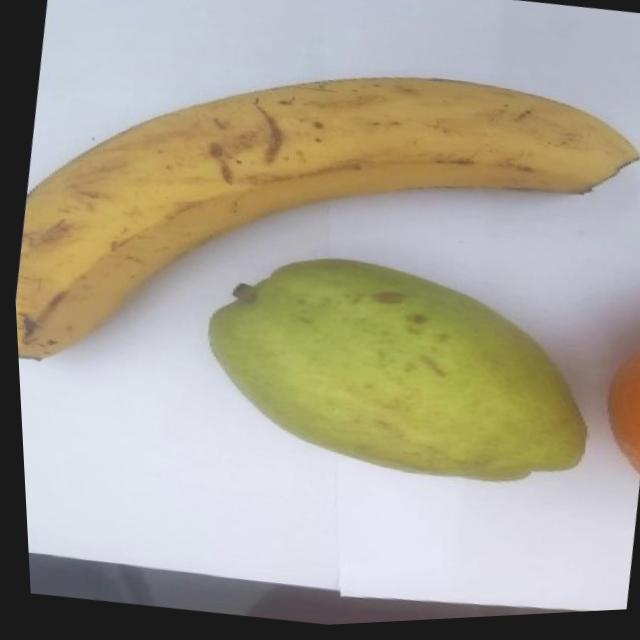Banana: (1, 8, 640, 451)
Orange: (587, 318, 640, 488)
